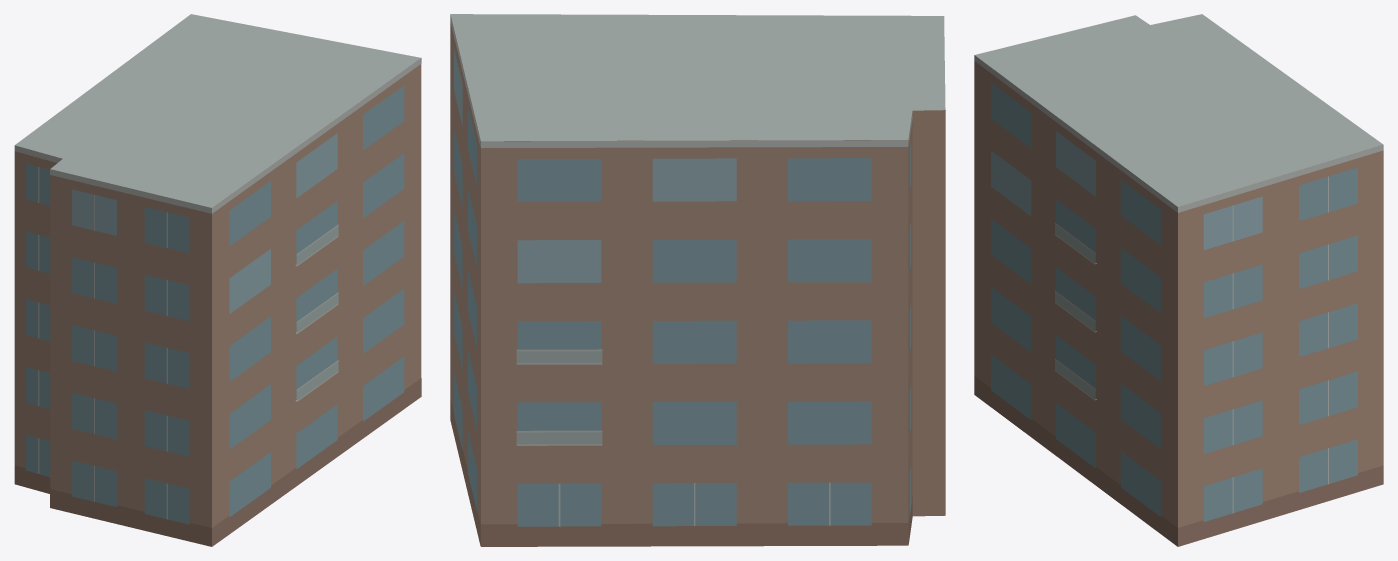
Rendered from survey-upis-32764745.glb.
3 views of the same model, side by side, from view 1: azimuth 30°, elevation 25°; view 2: azimuth 150°, elevation 25°; view 3: azimuth 270°, elevation 25° (orthographic). The views are drawn at different scales.
Visible parts, largest first — view 1: survey-upis-32764745.tmp; view 2: survey-upis-32764745.tmp; view 3: survey-upis-32764745.tmp.
Boxes of the visible parts, x1,y1,x2,y2 form: survey-upis-32764745.tmp: (14, 14, 421, 546); survey-upis-32764745.tmp: (450, 14, 945, 546); survey-upis-32764745.tmp: (974, 14, 1383, 546).
Bounding box in the file's own units: 17.32 × 14.2 × 15.5.
